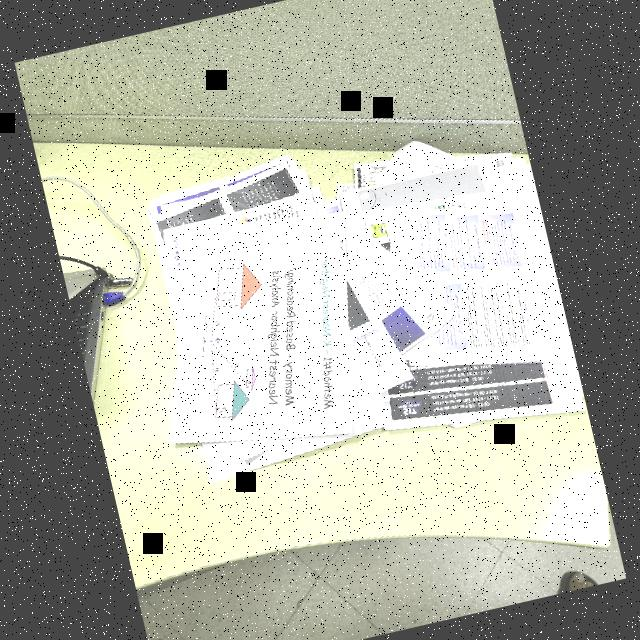reuseable_paper: (109, 111, 589, 514)
